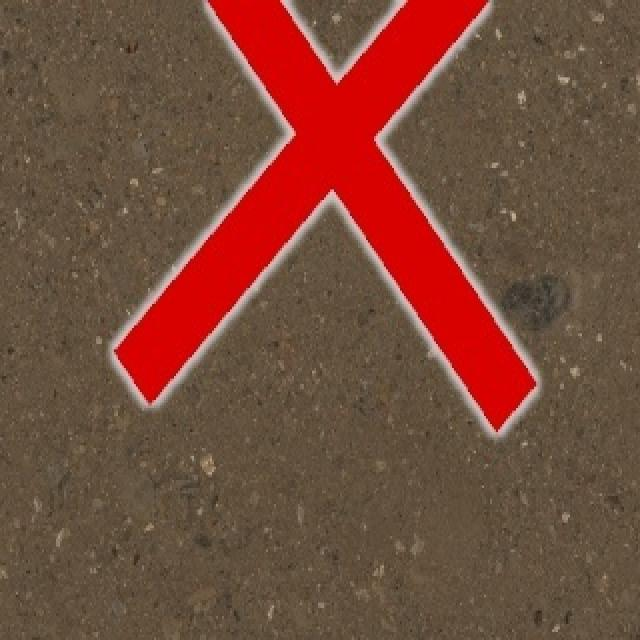x_marker: (113, 0, 535, 432)
